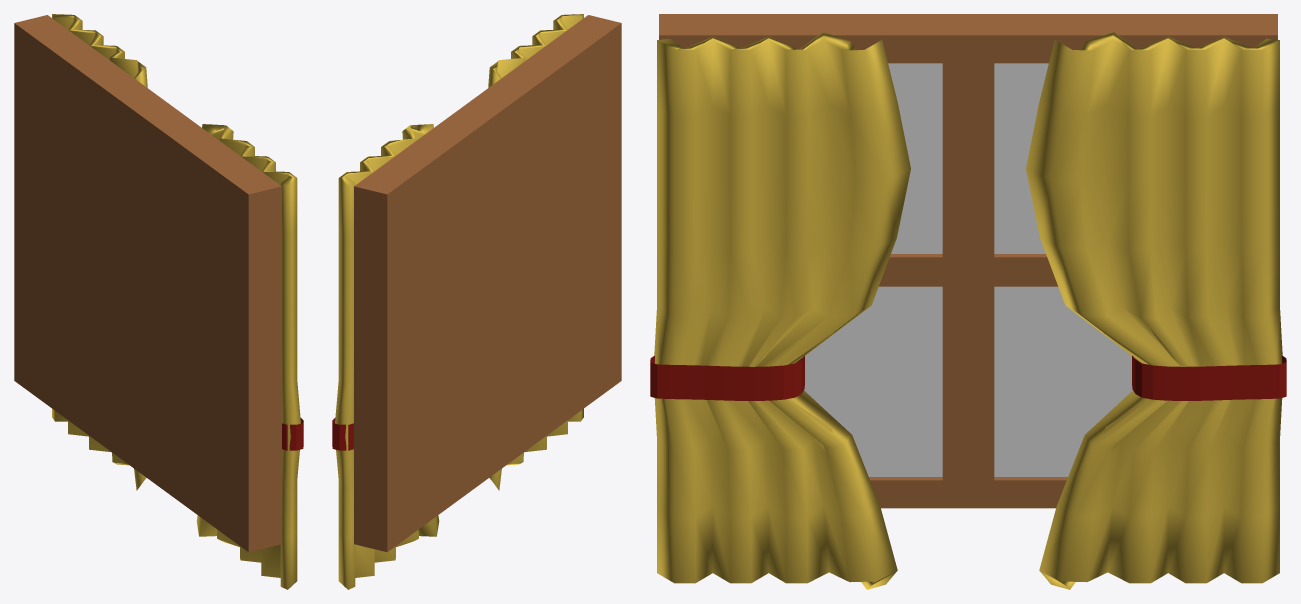
The model's file is janelacomcortinas.fbx.
3 views of the same model, side by side, from view 1: azimuth 30°, elevation 25°; view 2: azimuth 150°, elevation 25°; view 3: azimuth 270°, elevation 25° (orthographic). The views are drawn at different scales.
Visible parts, largest first — view 1: Cube.003, Plane; view 2: Cube.003, Plane; view 3: Plane, Cube.003.
Part boxes in pixels (left/top/right/bottom): Cube.003: left=14, top=15, right=281, bottom=552; Plane: left=52, top=14, right=303, bottom=589; Cube.003: left=354, top=15, right=621, bottom=552; Plane: left=332, top=14, right=583, bottom=589; Plane: left=650, top=32, right=1286, bottom=589; Cube.003: left=659, top=14, right=1277, bottom=508.
Size of the model in its own units: 142 by 960 by 1003.
